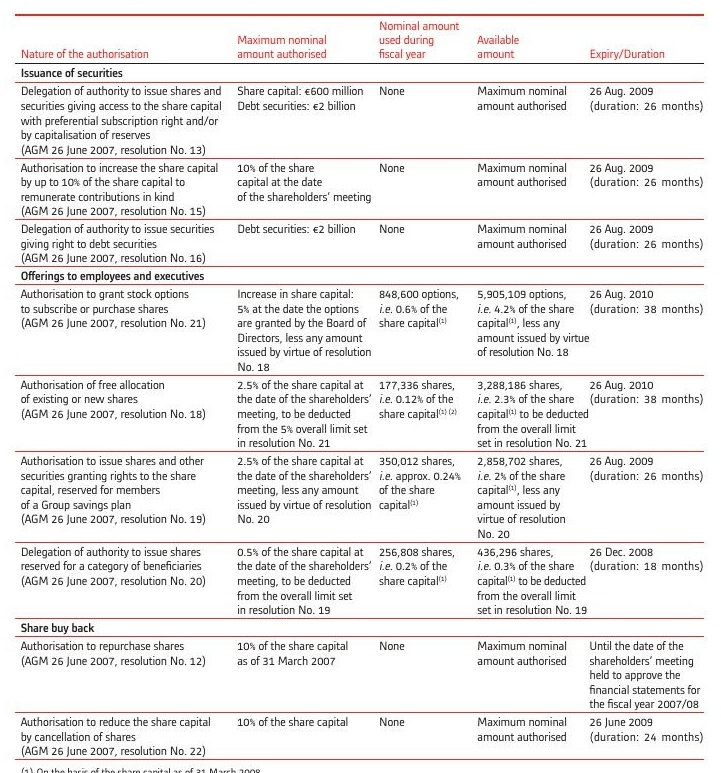table: (0, 0, 721, 773)
